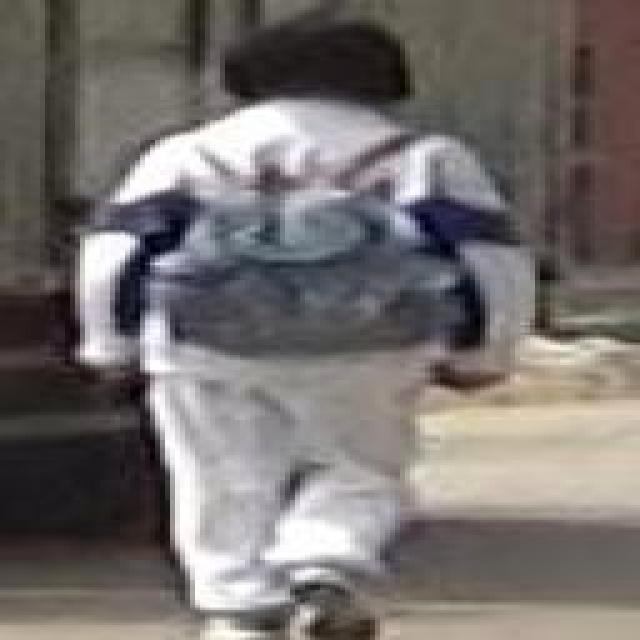child: (83, 10, 549, 640)
